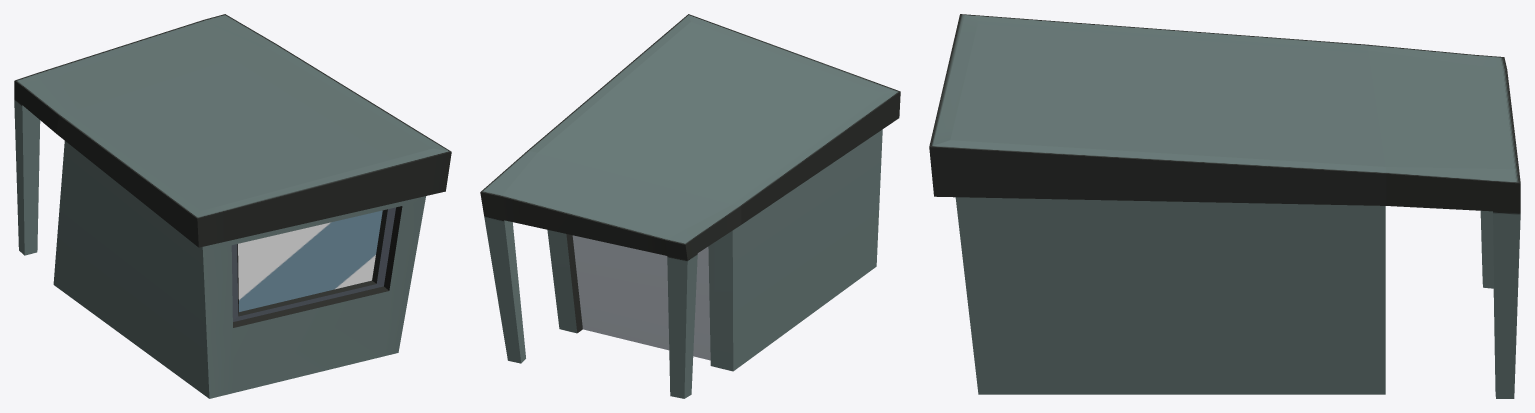
Rendered from Garage.fbx.
3 renders of one model, left to right at view 1: azimuth 30°, elevation 25°; view 2: azimuth 150°, elevation 25°; view 3: azimuth 270°, elevation 25°, orthographic. The views are drawn at different scales.
Visible parts, largest first — view 1: Garage; view 2: Garage; view 3: Garage.
Boxes of the visible parts, left/top/right/bottom form: Garage: left=14, top=14, right=451, bottom=398; Garage: left=480, top=14, right=900, bottom=398; Garage: left=929, top=14, right=1520, bottom=398.
Size of the model in its own units: 6.45 by 5.25 by 10.44.
